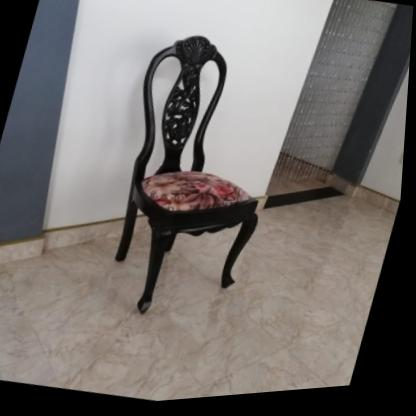Ceramic floor: (0, 193, 402, 404)
Chair: (83, 22, 307, 339)
